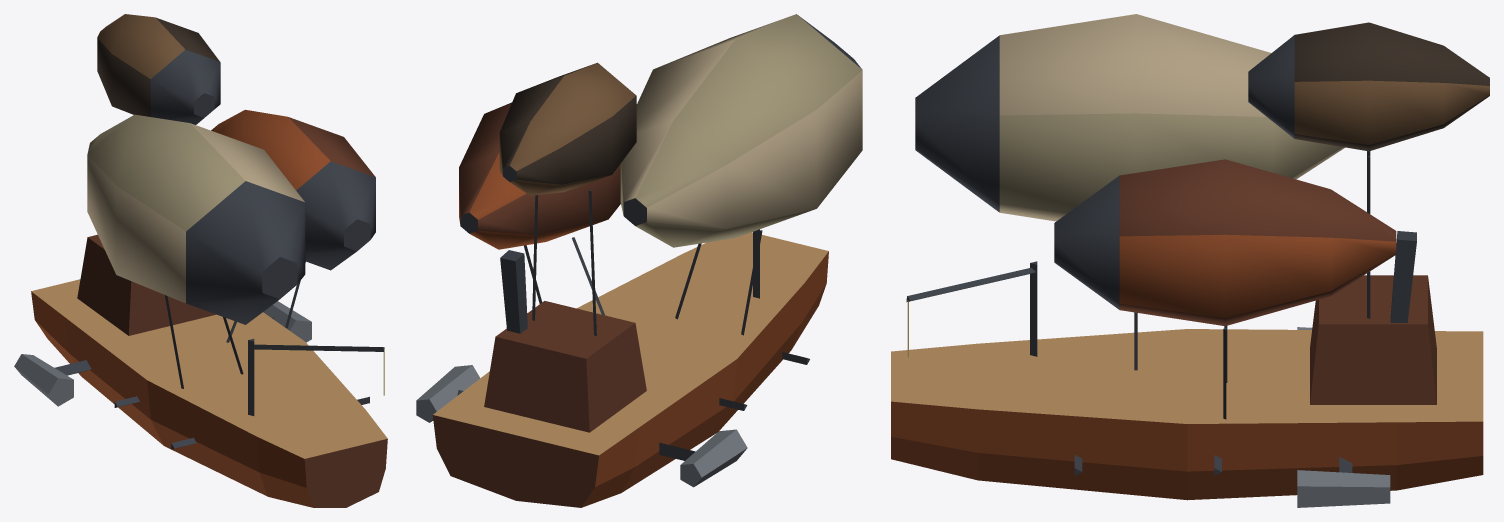
File: SM_Ship_ScrapRaider_LQ.glb
3 views of the same model, side by side, from view 1: azimuth 30°, elevation 25°; view 2: azimuth 150°, elevation 25°; view 3: azimuth 270°, elevation 25° (orthographic). The views are drawn at different scales.
Parts seen in each view (by area): view 1: SM_Ship_ScrapRaider_LQ; view 2: SM_Ship_ScrapRaider_LQ; view 3: SM_Ship_ScrapRaider_LQ.
Part boxes in pixels (bbox=[...]): SM_Ship_ScrapRaider_LQ: bbox=[14, 14, 387, 507]; SM_Ship_ScrapRaider_LQ: bbox=[416, 14, 862, 507]; SM_Ship_ScrapRaider_LQ: bbox=[891, 14, 1489, 507].
Size of the model in its own units: 8.96 by 11.88 by 14.15.
Materials: 1 (1 with a texture image).
